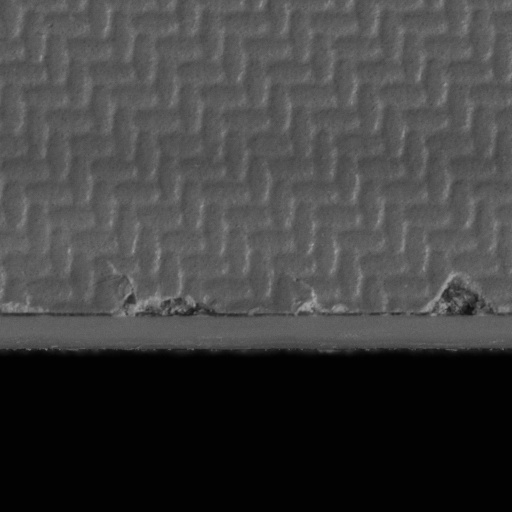bengque: (109, 280, 221, 320), (428, 272, 499, 319)
